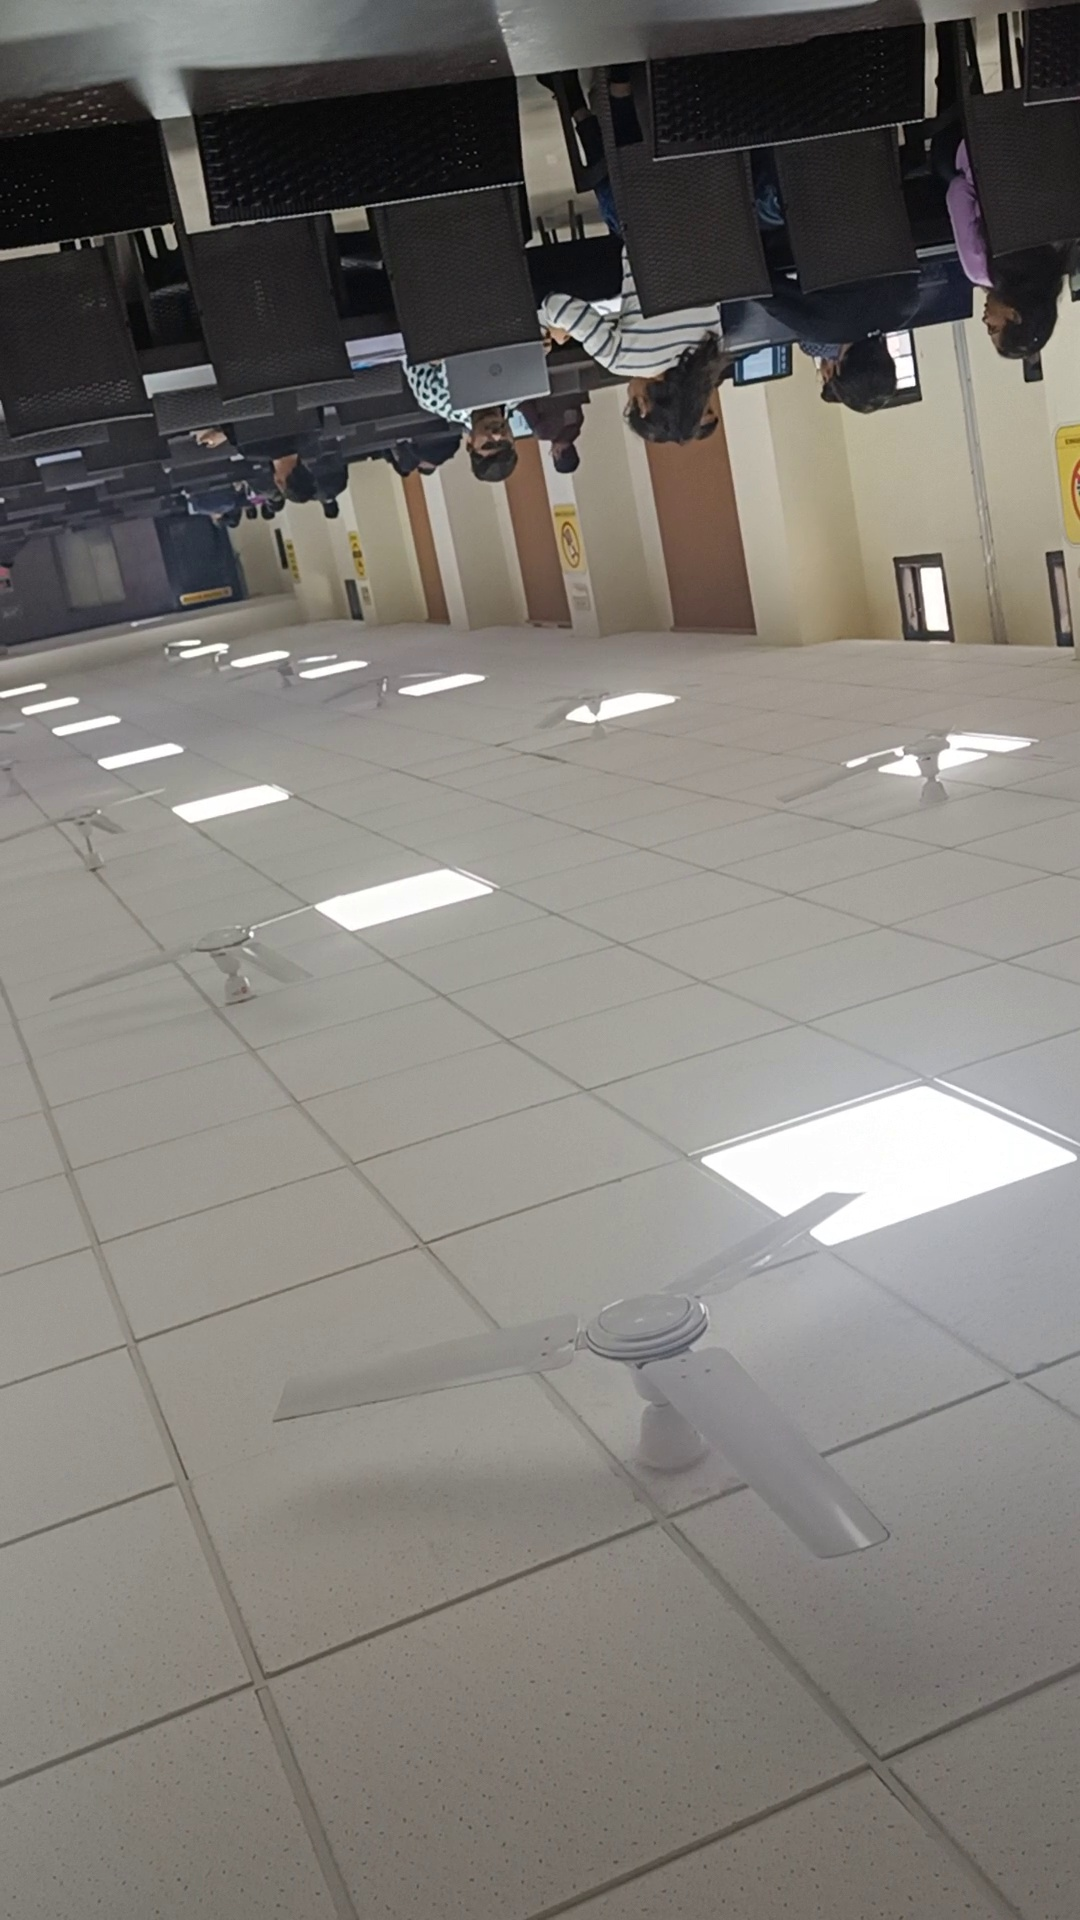fan: (262, 1178, 945, 1604), (44, 866, 345, 1043), (800, 695, 1030, 824)
